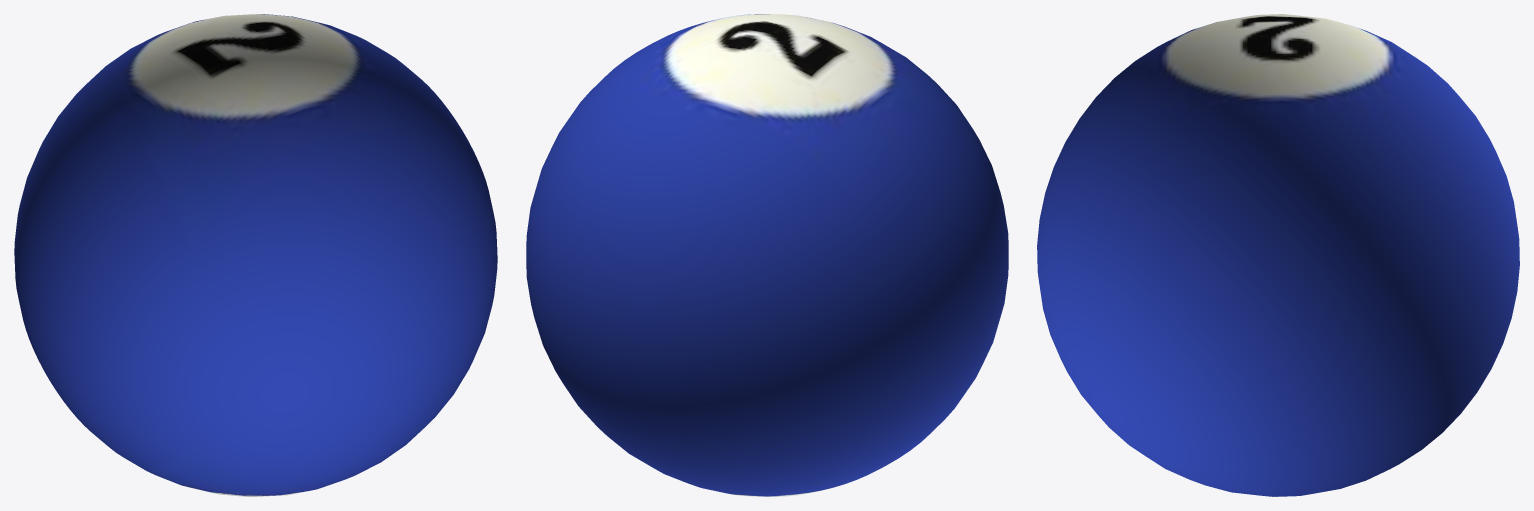
File: billardBall2.glb
The picture shows the model from 3 angles, left to right: view 1: azimuth 30°, elevation 25°; view 2: azimuth 150°, elevation 25°; view 3: azimuth 270°, elevation 25°; orthographic projection.
Visible parts, largest first — view 1: obj237; view 2: obj237; view 3: obj237.
Part boxes in pixels (box(x1,y1,x2,y2)): obj237: box(14, 14, 497, 496); obj237: box(526, 14, 1008, 496); obj237: box(1037, 14, 1519, 496).
Size of the model in its own units: 0.39 by 0.3904 by 0.3905.
Materials: 1 (1 with a texture image).
